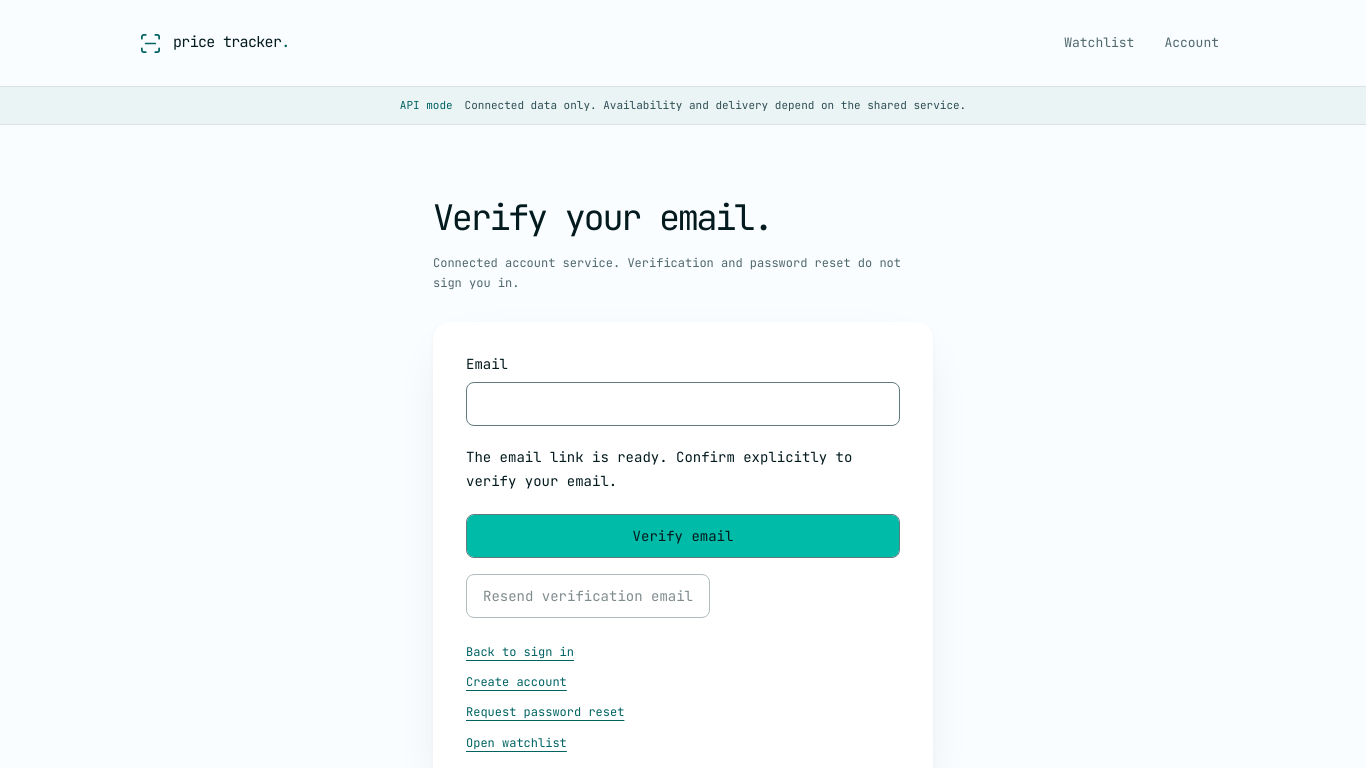
browser email link handoff › strips /verify-email fragment immediately and consumes only on explicit POST
The width and height of the screenshot is (1366, 768).
Click the button "Verify email". click: (683, 536)
box: [466,514,900,558]
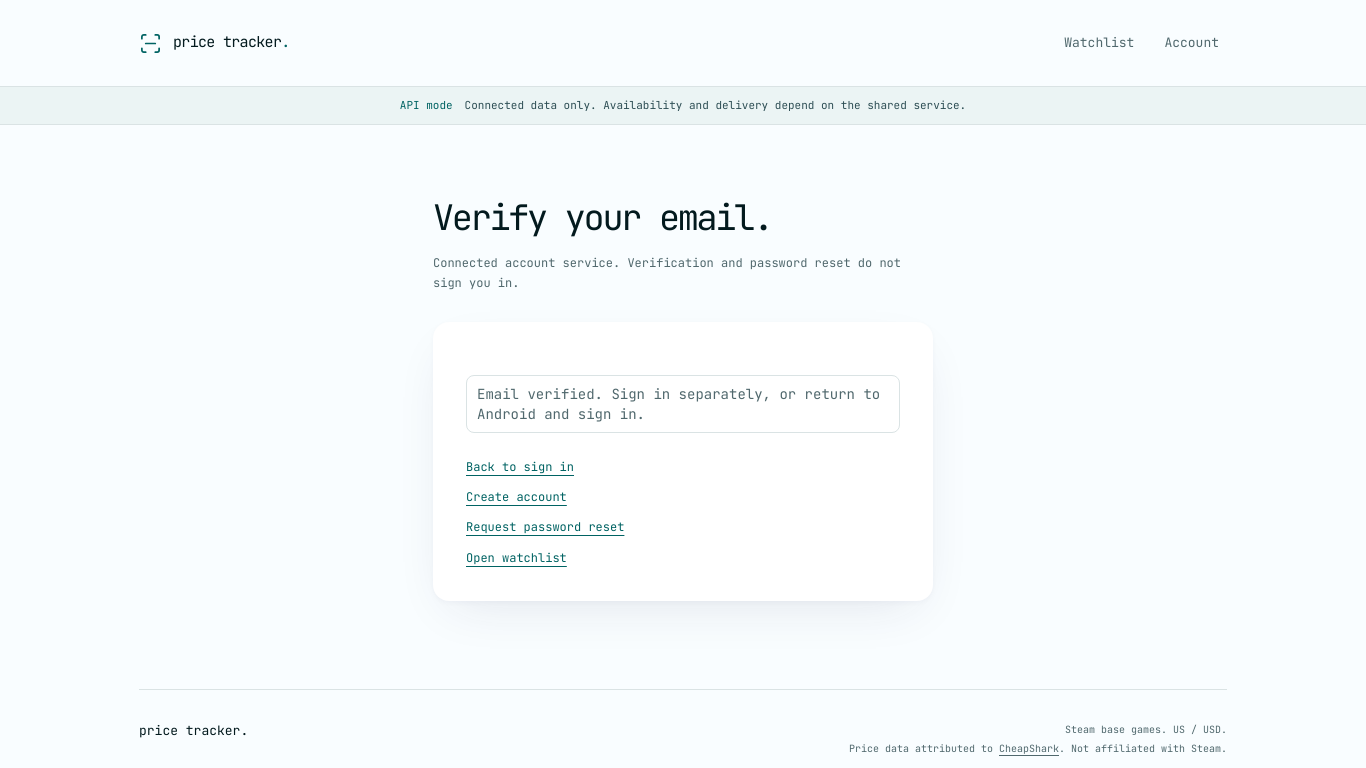
Now the text "Email verified. Sign in separately" is shown, box [477,385,880,423]
